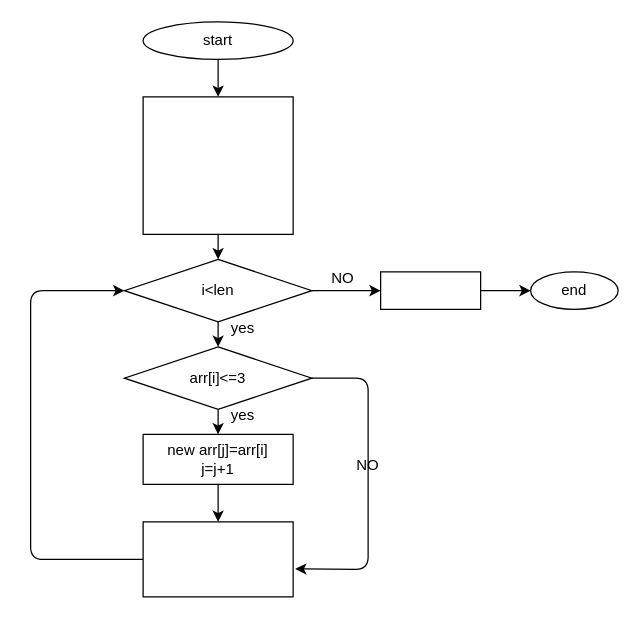
Image size: 640x619. Some labels were removed from this diagram. The shapes that lost their labels are listed below. From the top down, each one's centre as x and y in pixels, then its label:
the point at 217,165: arr=[] len=length(arr) i = 0 newarr=[] j = 0
the point at 430,290: newarr
the point at 217,559: i=i+1
